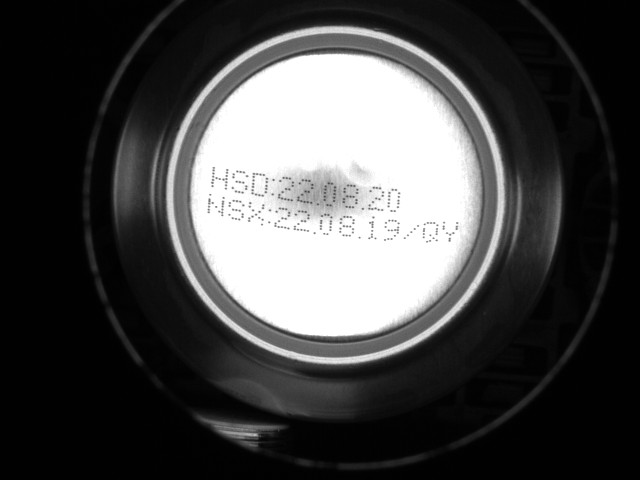/: (401, 221, 422, 243)
0: (390, 188, 412, 212), (323, 180, 339, 211), (317, 213, 337, 236)
1: (363, 215, 381, 240)
2: (272, 175, 300, 203), (365, 182, 389, 212), (268, 206, 293, 230), (297, 177, 315, 205), (294, 210, 315, 233)
8: (340, 215, 362, 239), (343, 183, 360, 211)
9: (384, 218, 400, 245)
D: (249, 172, 271, 198)
H: (208, 166, 232, 191)
N: (206, 198, 226, 220)
Q: (421, 222, 445, 244)
S: (232, 169, 248, 193), (229, 202, 246, 224)
X: (246, 203, 264, 226)
Y: (442, 220, 460, 245)
